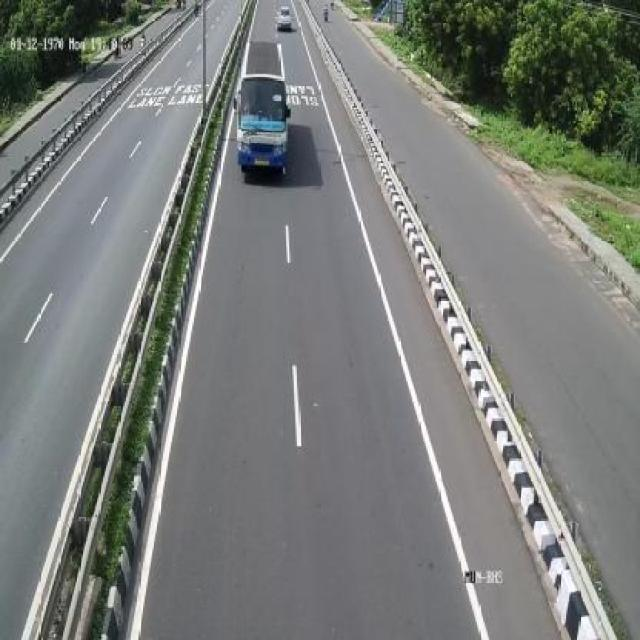car: (276, 1, 298, 37)
